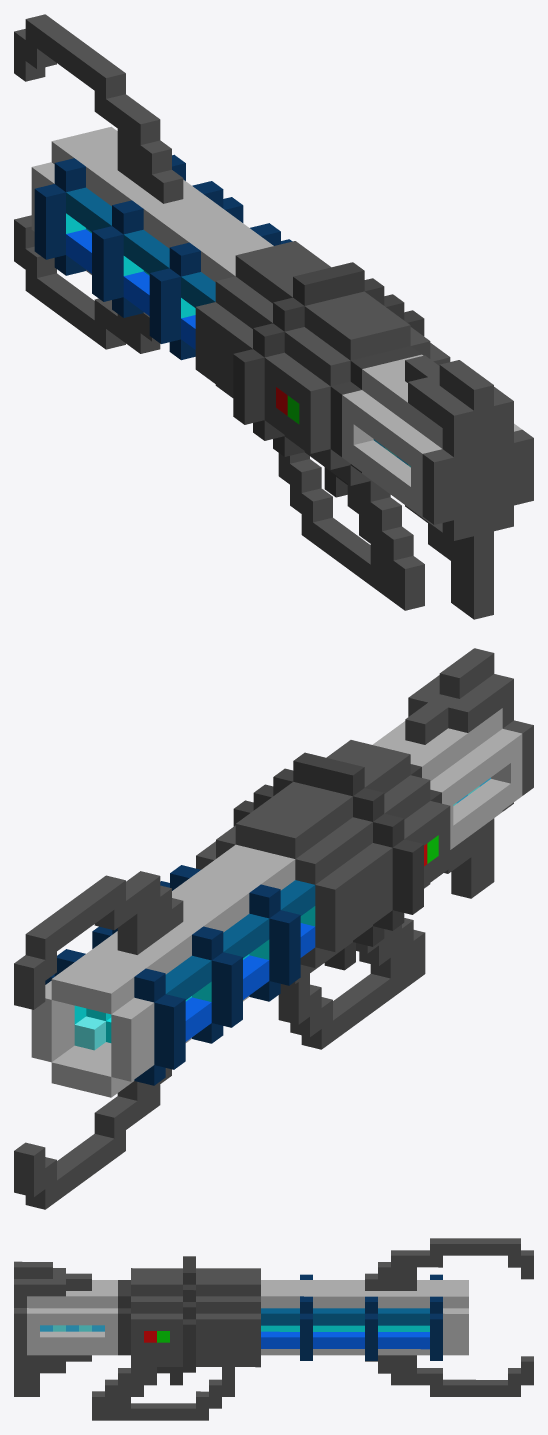
Rendered from gun.gltf.
3 views of the same model, one above another, from view 1: azimuth 30°, elevation 25°; view 2: azimuth 150°, elevation 25°; view 3: azimuth 270°, elevation 25° (orthographic). The views are drawn at different scales.
Visible parts, largest first — view 1: Object_2; view 2: Object_2; view 3: Object_2.
Boxes of the visible parts, <box> form: Object_2: <box>14,14,533,619</box>; Object_2: <box>14,648,533,1209</box>; Object_2: <box>14,1238,533,1420</box>.
Size of the model in its own units: 0.9001 by 1.5 by 4.
1 material, 1 textured.
